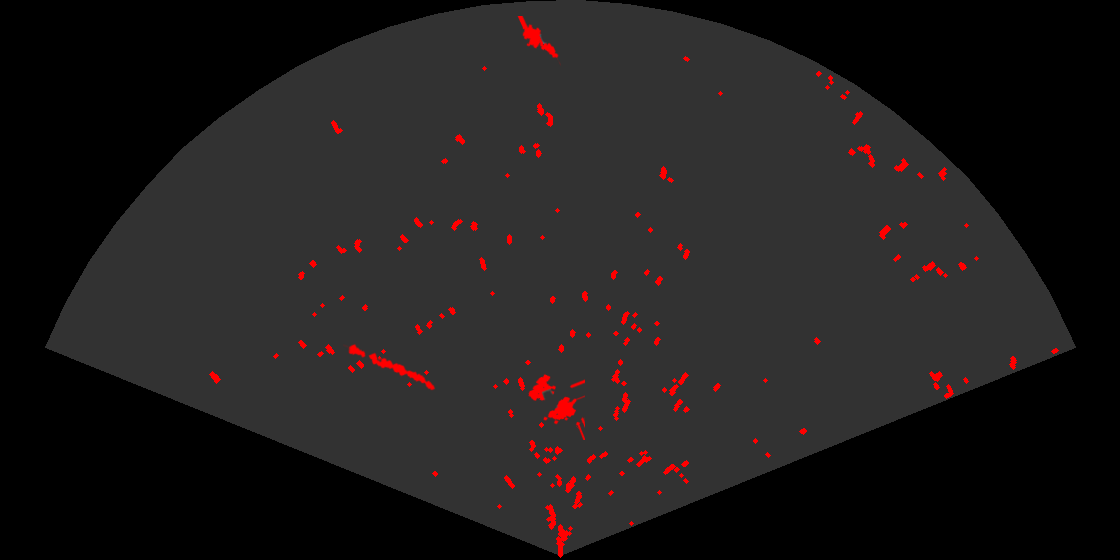cage: (527, 372, 585, 440)
chain: (343, 342, 437, 392)
frogman: (516, 16, 561, 67)
